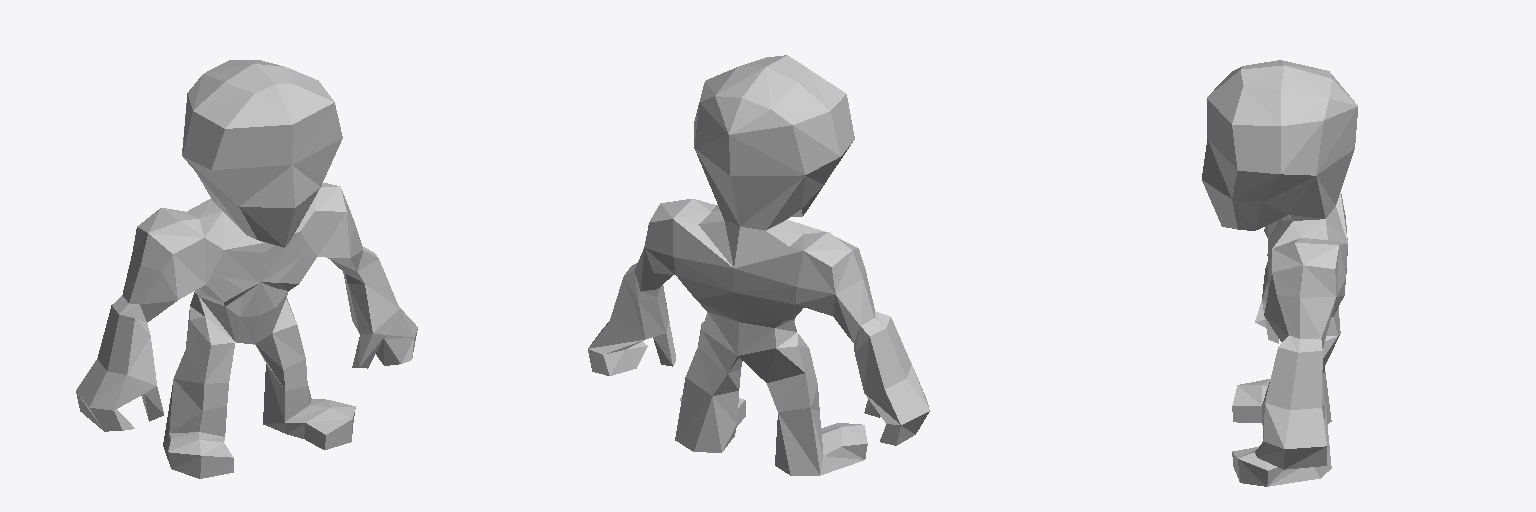
The model's file is MIGHTY DOOM ZOMBIE.obj.
The picture shows the model from 3 angles: view 1: azimuth 30°, elevation 25°; view 2: azimuth 150°, elevation 25°; view 3: azimuth 270°, elevation 25°; orthographic projection.
Parts seen in each view (by area): view 1: Cube.001; view 2: Cube.001; view 3: Cube.001.
Boxes of the visible parts, x1=… form: Cube.001: x1=76, y1=60, x2=417, y2=478; Cube.001: x1=588, y1=55, x2=929, y2=475; Cube.001: x1=1202, y1=60, x2=1357, y2=486.
Bounding box in the file's own units: 4.21 × 4.66 × 1.74.